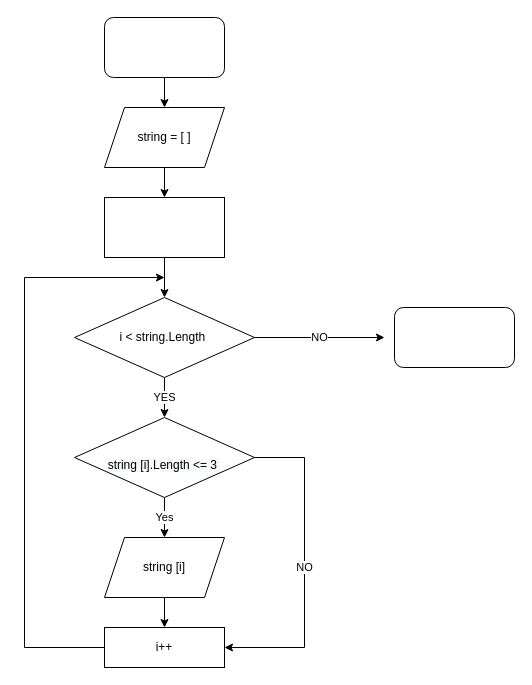
Some shapes in this 532 by 685 pixel diagram are drawn without their labels. Each missing label, with the box of its shape:
End: (394, 306, 514, 368)
int i = 0: (104, 196, 224, 258)
Start: (104, 16, 224, 78)
